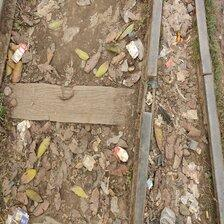railway-gap: (133, 69, 164, 121), (198, 62, 217, 85)
